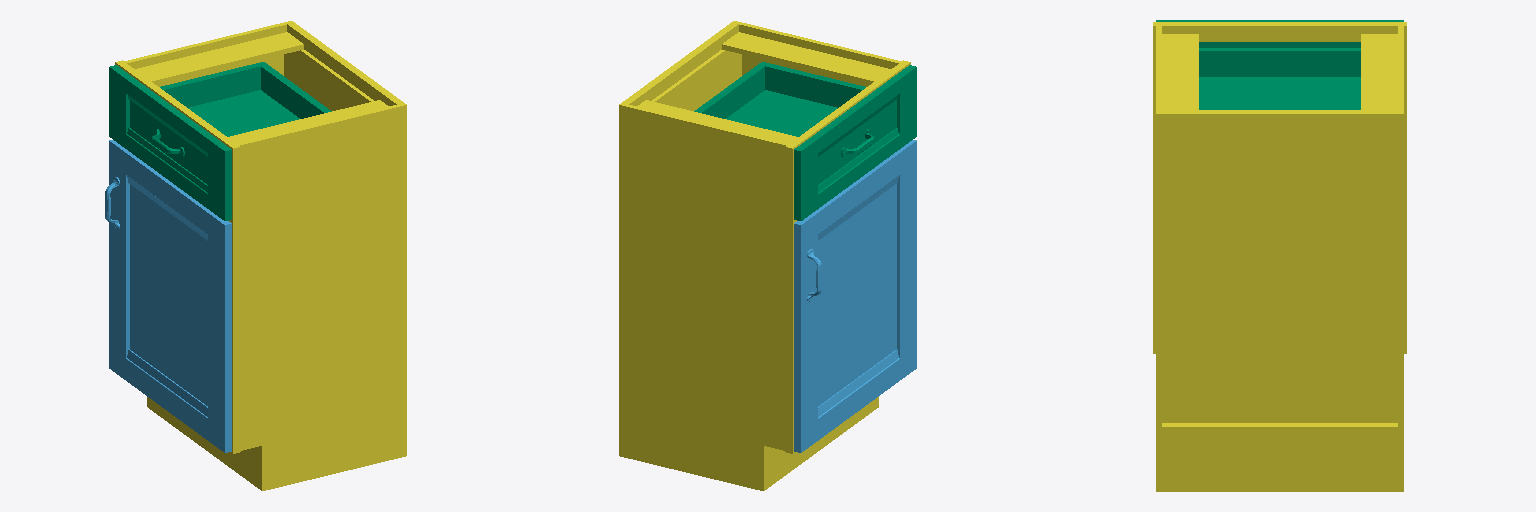
URDF robot description (partnet_4298f678b53d370dc59350d819542ec7):
<?xml version="1.0" ?>
<robot name="partnet_4298f678b53d370dc59350d819542ec7">
	<link name="base"/>
	<link name="link_0">
		<visual name="cabinet_door_surface-16">
			<origin xyz="-0.4470148193452829 -0.6867529749870299 -0.3585570053681772"/>
			<geometry>
				<mesh filename="textured_objs/original-48.obj"/>
			</geometry>
		</visual>
		<visual name="cabinet_door_surface-16">
			<origin xyz="-0.4470148193452829 -0.6867529749870299 -0.3585570053681772"/>
			<geometry>
				<mesh filename="textured_objs/original-45.obj"/>
			</geometry>
		</visual>
		<visual name="cabinet_door_surface-16">
			<origin xyz="-0.4470148193452829 -0.6867529749870299 -0.3585570053681772"/>
			<geometry>
				<mesh filename="textured_objs/original-44.obj"/>
			</geometry>
		</visual>
		<visual name="cabinet_door_surface-16">
			<origin xyz="-0.4470148193452829 -0.6867529749870299 -0.3585570053681772"/>
			<geometry>
				<mesh filename="textured_objs/original-46.obj"/>
			</geometry>
		</visual>
		<visual name="cabinet_door_surface-16">
			<origin xyz="-0.4470148193452829 -0.6867529749870299 -0.3585570053681772"/>
			<geometry>
				<mesh filename="textured_objs/original-43.obj"/>
			</geometry>
		</visual>
		<visual name="cabinet_door_surface-16">
			<origin xyz="-0.4470148193452829 -0.6867529749870299 -0.3585570053681772"/>
			<geometry>
				<mesh filename="textured_objs/original-49.obj"/>
			</geometry>
		</visual>
		<visual name="handle-17">
			<origin xyz="-0.4470148193452829 -0.6867529749870299 -0.3585570053681772"/>
			<geometry>
				<mesh filename="textured_objs/original-50.obj"/>
			</geometry>
		</visual>
		<collision>
			<origin xyz="-0.4470148193452829 -0.6867529749870299 -0.3585570053681772"/>
			<geometry>
				<mesh filename="textured_objs/original-48.obj"/>
			</geometry>
		</collision>
		<collision>
			<origin xyz="-0.4470148193452829 -0.6867529749870299 -0.3585570053681772"/>
			<geometry>
				<mesh filename="textured_objs/original-45.obj"/>
			</geometry>
		</collision>
		<collision>
			<origin xyz="-0.4470148193452829 -0.6867529749870299 -0.3585570053681772"/>
			<geometry>
				<mesh filename="textured_objs/original-44.obj"/>
			</geometry>
		</collision>
		<collision>
			<origin xyz="-0.4470148193452829 -0.6867529749870299 -0.3585570053681772"/>
			<geometry>
				<mesh filename="textured_objs/original-46.obj"/>
			</geometry>
		</collision>
		<collision>
			<origin xyz="-0.4470148193452829 -0.6867529749870299 -0.3585570053681772"/>
			<geometry>
				<mesh filename="textured_objs/original-43.obj"/>
			</geometry>
		</collision>
		<collision>
			<origin xyz="-0.4470148193452829 -0.6867529749870299 -0.3585570053681772"/>
			<geometry>
				<mesh filename="textured_objs/original-49.obj"/>
			</geometry>
		</collision>
		<collision>
			<origin xyz="-0.4470148193452829 -0.6867529749870299 -0.3585570053681772"/>
			<geometry>
				<mesh filename="textured_objs/original-50.obj"/>
			</geometry>
		</collision>
	</link>
	<joint name="joint_0" type="revolute">
		<origin xyz="0.4470148193452829 0.6867529749870299 0.3585570053681772"/>
		<axis xyz="0 1 0"/>
		<child link="link_0"/>
		<parent link="link_2"/>
		<limit lower="0.0" upper="2.0943951023931953"/>
	</joint>
	<link name="link_1">
		<visual name="drawer_side-9">
			<origin xyz="0 0 0"/>
			<geometry>
				<mesh filename="textured_objs/original-25.obj"/>
			</geometry>
		</visual>
		<visual name="drawer_side-10">
			<origin xyz="0 0 0"/>
			<geometry>
				<mesh filename="textured_objs/original-30.obj"/>
			</geometry>
		</visual>
		<visual name="drawer_back-11">
			<origin xyz="0 0 0"/>
			<geometry>
				<mesh filename="textured_objs/original-31.obj"/>
			</geometry>
		</visual>
		<visual name="drawer_bottom-12">
			<origin xyz="0 0 0"/>
			<geometry>
				<mesh filename="textured_objs/original-29.obj"/>
			</geometry>
		</visual>
		<visual name="drawer_bottom-12">
			<origin xyz="0 0 0"/>
			<geometry>
				<mesh filename="textured_objs/original-28.obj"/>
			</geometry>
		</visual>
		<visual name="drawer_front-13">
			<origin xyz="0 0 0"/>
			<geometry>
				<mesh filename="textured_objs/original-40.obj"/>
			</geometry>
		</visual>
		<visual name="drawer_front-13">
			<origin xyz="0 0 0"/>
			<geometry>
				<mesh filename="textured_objs/original-35.obj"/>
			</geometry>
		</visual>
		<visual name="drawer_front-13">
			<origin xyz="0 0 0"/>
			<geometry>
				<mesh filename="textured_objs/original-34.obj"/>
			</geometry>
		</visual>
		<visual name="drawer_front-13">
			<origin xyz="0 0 0"/>
			<geometry>
				<mesh filename="textured_objs/original-36.obj"/>
			</geometry>
		</visual>
		<visual name="drawer_front-13">
			<origin xyz="0 0 0"/>
			<geometry>
				<mesh filename="textured_objs/original-37.obj"/>
			</geometry>
		</visual>
		<visual name="drawer_front-13">
			<origin xyz="0 0 0"/>
			<geometry>
				<mesh filename="textured_objs/original-26.obj"/>
			</geometry>
		</visual>
		<visual name="drawer_front-13">
			<origin xyz="0 0 0"/>
			<geometry>
				<mesh filename="textured_objs/original-39.obj"/>
			</geometry>
		</visual>
		<visual name="other_leaf-15">
			<origin xyz="0 0 0"/>
			<geometry>
				<mesh filename="textured_objs/original-32.obj"/>
			</geometry>
		</visual>
		<visual name="handle-7">
			<origin xyz="0 0 0"/>
			<geometry>
				<mesh filename="textured_objs/original-41.obj"/>
			</geometry>
		</visual>
		<collision>
			<origin xyz="0 0 0"/>
			<geometry>
				<mesh filename="textured_objs/original-25.obj"/>
			</geometry>
		</collision>
		<collision>
			<origin xyz="0 0 0"/>
			<geometry>
				<mesh filename="textured_objs/original-30.obj"/>
			</geometry>
		</collision>
		<collision>
			<origin xyz="0 0 0"/>
			<geometry>
				<mesh filename="textured_objs/original-31.obj"/>
			</geometry>
		</collision>
		<collision>
			<origin xyz="0 0 0"/>
			<geometry>
				<mesh filename="textured_objs/original-29.obj"/>
			</geometry>
		</collision>
		<collision>
			<origin xyz="0 0 0"/>
			<geometry>
				<mesh filename="textured_objs/original-28.obj"/>
			</geometry>
		</collision>
		<collision>
			<origin xyz="0 0 0"/>
			<geometry>
				<mesh filename="textured_objs/original-40.obj"/>
			</geometry>
		</collision>
		<collision>
			<origin xyz="0 0 0"/>
			<geometry>
				<mesh filename="textured_objs/original-35.obj"/>
			</geometry>
		</collision>
		<collision>
			<origin xyz="0 0 0"/>
			<geometry>
				<mesh filename="textured_objs/original-34.obj"/>
			</geometry>
		</collision>
		<collision>
			<origin xyz="0 0 0"/>
			<geometry>
				<mesh filename="textured_objs/original-36.obj"/>
			</geometry>
		</collision>
		<collision>
			<origin xyz="0 0 0"/>
			<geometry>
				<mesh filename="textured_objs/original-37.obj"/>
			</geometry>
		</collision>
		<collision>
			<origin xyz="0 0 0"/>
			<geometry>
				<mesh filename="textured_objs/original-26.obj"/>
			</geometry>
		</collision>
		<collision>
			<origin xyz="0 0 0"/>
			<geometry>
				<mesh filename="textured_objs/original-39.obj"/>
			</geometry>
		</collision>
		<collision>
			<origin xyz="0 0 0"/>
			<geometry>
				<mesh filename="textured_objs/original-32.obj"/>
			</geometry>
		</collision>
		<collision>
			<origin xyz="0 0 0"/>
			<geometry>
				<mesh filename="textured_objs/original-41.obj"/>
			</geometry>
		</collision>
	</link>
	<joint name="joint_1" type="prismatic">
		<origin xyz="0 0 0"/>
		<axis xyz="0 0 1"/>
		<child link="link_1"/>
		<parent link="link_2"/>
		<limit lower="0" upper="0.52"/>
	</joint>
	<link name="link_2">
		<visual name="shelf-24">
			<origin xyz="0 0 0"/>
			<geometry>
				<mesh filename="textured_objs/original-2.obj"/>
			</geometry>
		</visual>
		<visual name="base_side_panel-19">
			<origin xyz="0 0 0"/>
			<geometry>
				<mesh filename="textured_objs/original-17.obj"/>
			</geometry>
		</visual>
		<visual name="base_side_panel-20">
			<origin xyz="0 0 0"/>
			<geometry>
				<mesh filename="textured_objs/original-13.obj"/>
			</geometry>
		</visual>
		<visual name="base_side_panel-21">
			<origin xyz="0 0 0"/>
			<geometry>
				<mesh filename="textured_objs/original-19.obj"/>
			</geometry>
		</visual>
		<visual name="base_side_panel-22">
			<origin xyz="0 0 0"/>
			<geometry>
				<mesh filename="textured_objs/original-20.obj"/>
			</geometry>
		</visual>
		<visual name="frame_vertical_bar-30">
			<origin xyz="0 0 0"/>
			<geometry>
				<mesh filename="textured_objs/original-8.obj"/>
			</geometry>
		</visual>
		<visual name="frame_vertical_bar-31">
			<origin xyz="0 0 0"/>
			<geometry>
				<mesh filename="textured_objs/original-4.obj"/>
			</geometry>
		</visual>
		<visual name="frame_horizontal_bar-32">
			<origin xyz="0 0 0"/>
			<geometry>
				<mesh filename="textured_objs/original-5.obj"/>
			</geometry>
		</visual>
		<visual name="frame_horizontal_bar-33">
			<origin xyz="0 0 0"/>
			<geometry>
				<mesh filename="textured_objs/original-22.obj"/>
			</geometry>
		</visual>
		<visual name="frame_horizontal_bar-34">
			<origin xyz="0 0 0"/>
			<geometry>
				<mesh filename="textured_objs/original-21.obj"/>
			</geometry>
		</visual>
		<visual name="frame_horizontal_bar-35">
			<origin xyz="0 0 0"/>
			<geometry>
				<mesh filename="textured_objs/original-7.obj"/>
			</geometry>
		</visual>
		<visual name="frame_horizontal_bar-36">
			<origin xyz="0 0 0"/>
			<geometry>
				<mesh filename="textured_objs/original-18.obj"/>
			</geometry>
		</visual>
		<visual name="back_panel-39">
			<origin xyz="0 0 0"/>
			<geometry>
				<mesh filename="textured_objs/original-6.obj"/>
			</geometry>
		</visual>
		<visual name="bottom_panel-40">
			<origin xyz="0 0 0"/>
			<geometry>
				<mesh filename="textured_objs/original-3.obj"/>
			</geometry>
		</visual>
		<visual name="frame_horizontal_bar-41">
			<origin xyz="0 0 0"/>
			<geometry>
				<mesh filename="textured_objs/original-9.obj"/>
			</geometry>
		</visual>
		<visual name="vertical_side_panel-42">
			<origin xyz="0 0 0"/>
			<geometry>
				<mesh filename="textured_objs/original-12.obj"/>
			</geometry>
		</visual>
		<visual name="vertical_side_panel-42">
			<origin xyz="0 0 0"/>
			<geometry>
				<mesh filename="textured_objs/original-11.obj"/>
			</geometry>
		</visual>
		<visual name="vertical_side_panel-43">
			<origin xyz="0 0 0"/>
			<geometry>
				<mesh filename="textured_objs/original-16.obj"/>
			</geometry>
		</visual>
		<visual name="vertical_side_panel-43">
			<origin xyz="0 0 0"/>
			<geometry>
				<mesh filename="textured_objs/original-15.obj"/>
			</geometry>
		</visual>
		<visual name="other_leaf-45">
			<origin xyz="0 0 0"/>
			<geometry>
				<mesh filename="textured_objs/original-51.obj"/>
			</geometry>
		</visual>
		<collision>
			<origin xyz="0 0 0"/>
			<geometry>
				<mesh filename="textured_objs/original-2.obj"/>
			</geometry>
		</collision>
		<collision>
			<origin xyz="0 0 0"/>
			<geometry>
				<mesh filename="textured_objs/original-17.obj"/>
			</geometry>
		</collision>
		<collision>
			<origin xyz="0 0 0"/>
			<geometry>
				<mesh filename="textured_objs/original-13.obj"/>
			</geometry>
		</collision>
		<collision>
			<origin xyz="0 0 0"/>
			<geometry>
				<mesh filename="textured_objs/original-19.obj"/>
			</geometry>
		</collision>
		<collision>
			<origin xyz="0 0 0"/>
			<geometry>
				<mesh filename="textured_objs/original-20.obj"/>
			</geometry>
		</collision>
		<collision>
			<origin xyz="0 0 0"/>
			<geometry>
				<mesh filename="textured_objs/original-8.obj"/>
			</geometry>
		</collision>
		<collision>
			<origin xyz="0 0 0"/>
			<geometry>
				<mesh filename="textured_objs/original-4.obj"/>
			</geometry>
		</collision>
		<collision>
			<origin xyz="0 0 0"/>
			<geometry>
				<mesh filename="textured_objs/original-5.obj"/>
			</geometry>
		</collision>
		<collision>
			<origin xyz="0 0 0"/>
			<geometry>
				<mesh filename="textured_objs/original-22.obj"/>
			</geometry>
		</collision>
		<collision>
			<origin xyz="0 0 0"/>
			<geometry>
				<mesh filename="textured_objs/original-21.obj"/>
			</geometry>
		</collision>
		<collision>
			<origin xyz="0 0 0"/>
			<geometry>
				<mesh filename="textured_objs/original-7.obj"/>
			</geometry>
		</collision>
		<collision>
			<origin xyz="0 0 0"/>
			<geometry>
				<mesh filename="textured_objs/original-18.obj"/>
			</geometry>
		</collision>
		<collision>
			<origin xyz="0 0 0"/>
			<geometry>
				<mesh filename="textured_objs/original-6.obj"/>
			</geometry>
		</collision>
		<collision>
			<origin xyz="0 0 0"/>
			<geometry>
				<mesh filename="textured_objs/original-3.obj"/>
			</geometry>
		</collision>
		<collision>
			<origin xyz="0 0 0"/>
			<geometry>
				<mesh filename="textured_objs/original-9.obj"/>
			</geometry>
		</collision>
		<collision>
			<origin xyz="0 0 0"/>
			<geometry>
				<mesh filename="textured_objs/original-12.obj"/>
			</geometry>
		</collision>
		<collision>
			<origin xyz="0 0 0"/>
			<geometry>
				<mesh filename="textured_objs/original-11.obj"/>
			</geometry>
		</collision>
		<collision>
			<origin xyz="0 0 0"/>
			<geometry>
				<mesh filename="textured_objs/original-16.obj"/>
			</geometry>
		</collision>
		<collision>
			<origin xyz="0 0 0"/>
			<geometry>
				<mesh filename="textured_objs/original-15.obj"/>
			</geometry>
		</collision>
		<collision>
			<origin xyz="0 0 0"/>
			<geometry>
				<mesh filename="textured_objs/original-51.obj"/>
			</geometry>
		</collision>
	</link>
	<joint name="joint_2" type="fixed">
		<origin rpy="1.570796326794897 0 -1.570796326794897" xyz="0 0 0"/>
		<child link="link_2"/>
		<parent link="base"/>
	</joint>
</robot>

--- Render facts (derived) ---
3 views of the same robot in one strip: view 1: azimuth 30°, elevation 25°; view 2: azimuth 150°, elevation 25°; view 3: azimuth 270°, elevation 25° (orthographic).
Robot: partnet_4298f678b53d370dc59350d819542ec7 — 4 links, 3 joints (1 revolute, 1 prismatic, 1 fixed); root link base; default pose: all joints at 0.
Visible links, largest first — view 1: link_2, link_0, link_1; view 2: link_2, link_0, link_1; view 3: link_2, link_1.
Link boxes in pixels (x1=…): link_2: x1=115, y1=21, x2=406, y2=490; link_0: x1=105, y1=140, x2=231, y2=452; link_1: x1=109, y1=62, x2=331, y2=220; link_2: x1=619, y1=21, x2=910, y2=490; link_0: x1=794, y1=140, x2=916, y2=452; link_1: x1=694, y1=62, x2=916, y2=220; link_2: x1=1153, y1=22, x2=1406, y2=491; link_1: x1=1156, y1=20, x2=1403, y2=109.
Bounding box of the posed robot: 0.8629 × 0.9103 × 1.5 m (x, y, z).
Meshes: 41 distinct files referenced, 41 mesh visuals loaded (41 OBJ).
